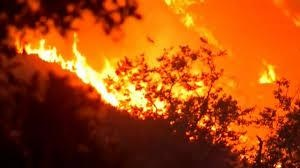fire: (20, 3, 295, 148)
